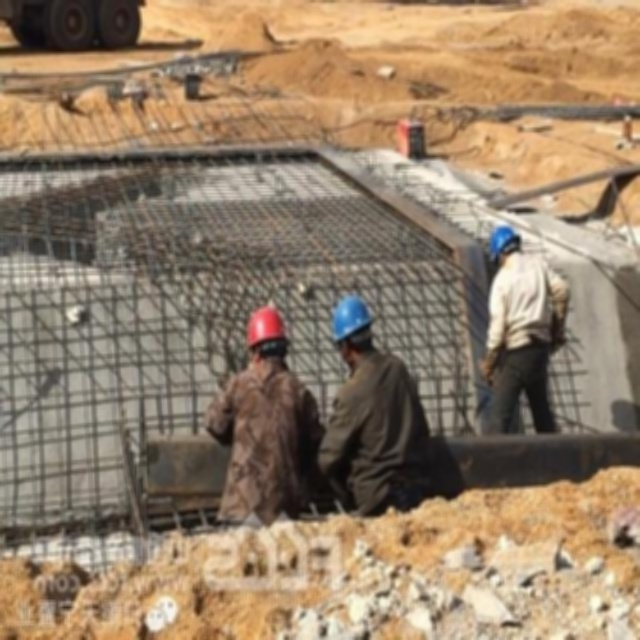Con_Casco: (331, 293, 370, 362), (245, 307, 289, 361)
